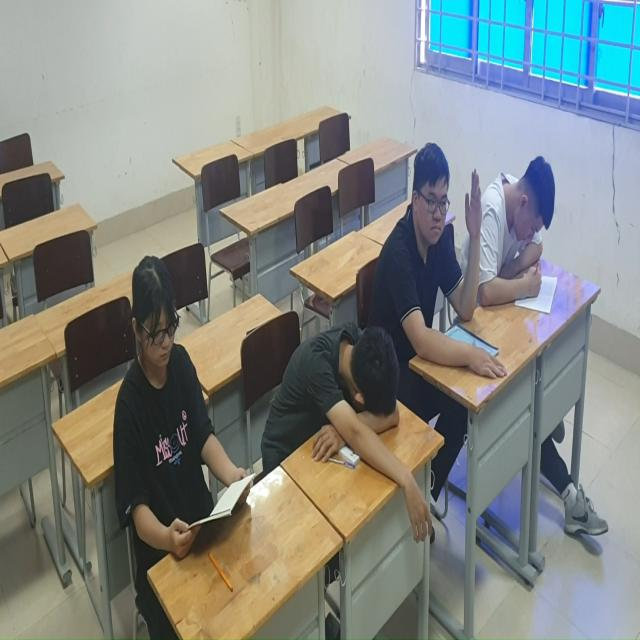raise_hand: (377, 138, 488, 355)
read: (99, 248, 258, 575), (477, 145, 562, 324)
sleep: (268, 306, 435, 544)
